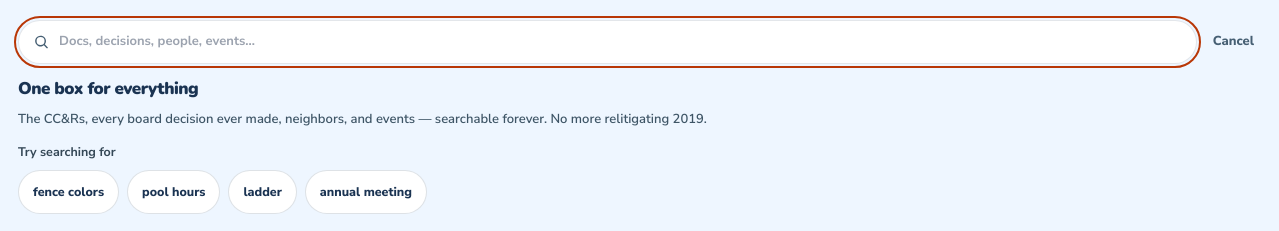
Test: search filters the index
Type "ladder" into the search field with placeholder "Docs, decisions, people, events…" at (607, 42), box [18,20,1197,64]
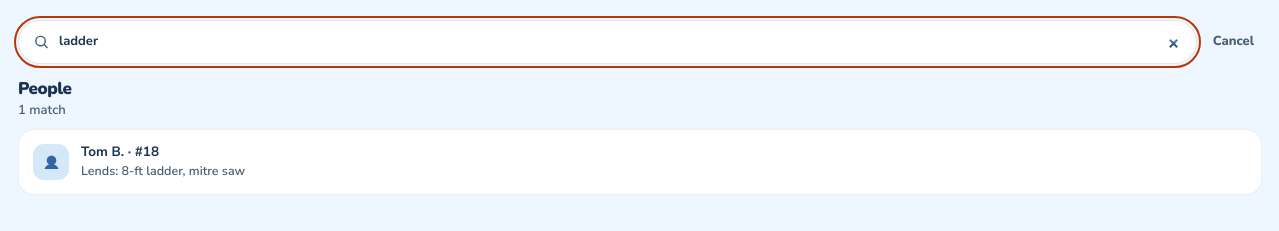
Now the text "Tom B. · #18" is shown, box [81,142,159,161]
